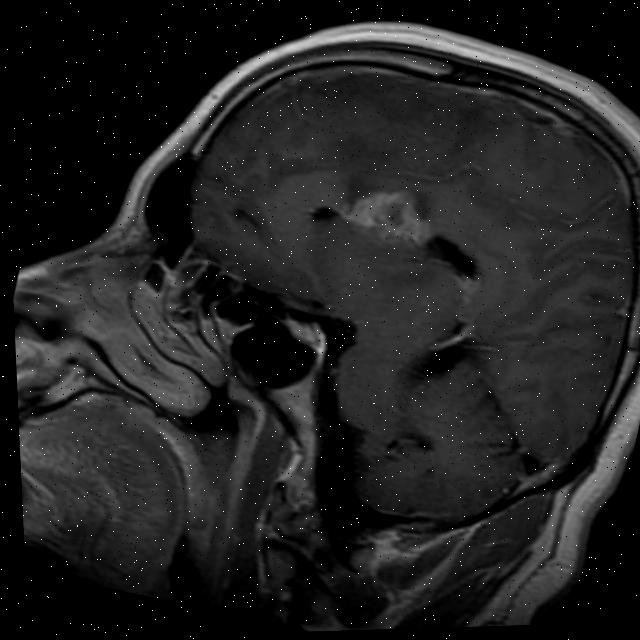Glioma: (333, 172, 443, 251)
Pituitary: (272, 307, 338, 358)
